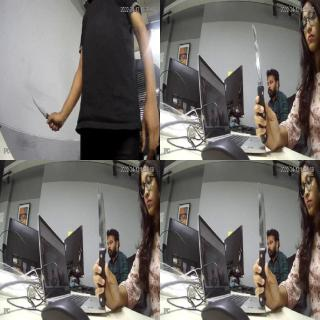knife: (92, 179, 108, 263), (250, 24, 266, 98), (255, 180, 267, 260), (31, 95, 49, 118)
